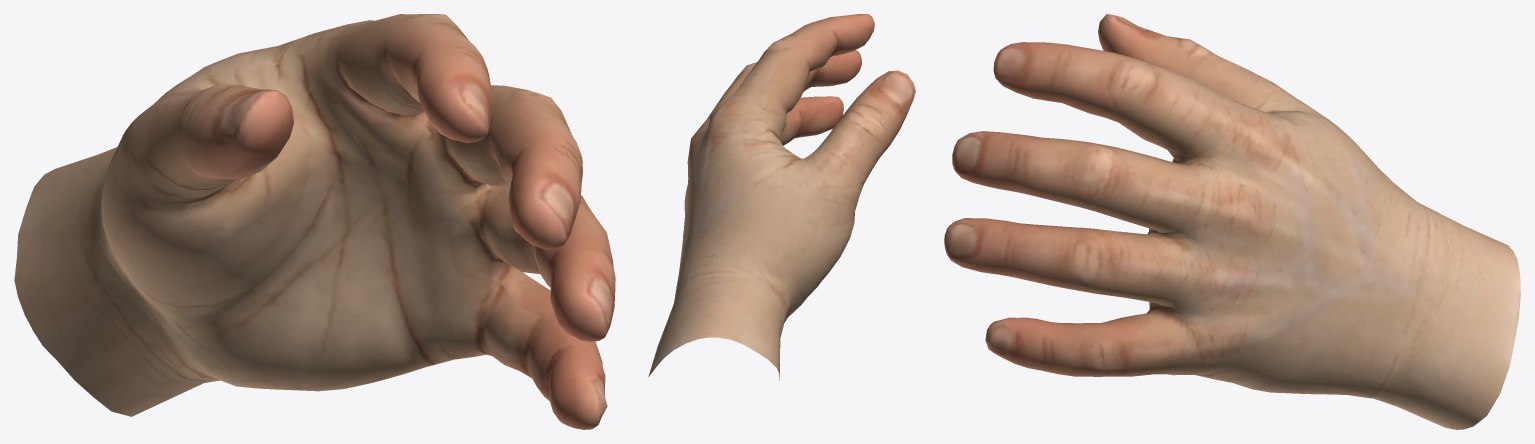
The model's file is hand.glb.
The picture shows the model from 3 angles, left to right: view 1: azimuth 30°, elevation 25°; view 2: azimuth 150°, elevation 25°; view 3: azimuth 270°, elevation 25°; orthographic projection. The views are drawn at different scales.
Parts seen in each view (by area): view 1: handlow; view 2: handlow; view 3: handlow.
Boxes of the visible parts, <box> form: handlow: <box>14,14,615,429</box>; handlow: <box>648,14,915,380</box>; handlow: <box>944,14,1520,429</box>.
Size of the model in its own units: 11.2 by 16.36 by 21.88.
1 material, 1 textured.
